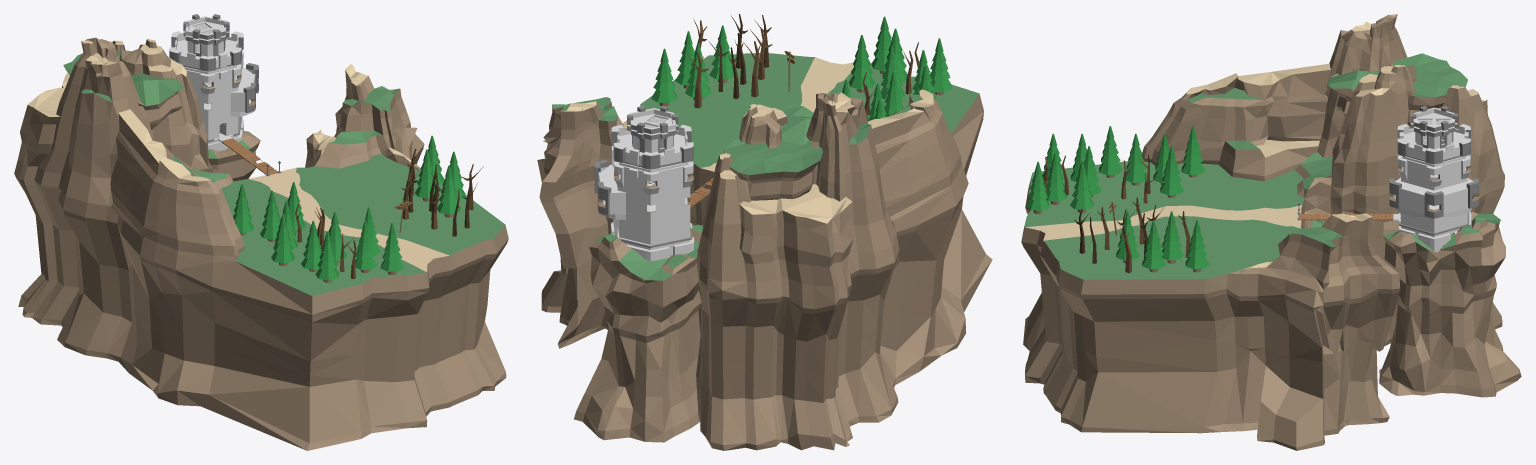
The model's file is Towerandterrain.fbx.
3 renders of one model, left to right at view 1: azimuth 30°, elevation 25°; view 2: azimuth 150°, elevation 25°; view 3: azimuth 270°, elevation 25°, orthographic. The views are drawn at different scales.
Visible parts, largest first — view 1: Terrain, tree2, Tower, tree, Bridge; view 2: Terrain, Tower, tree2, tree; view 3: Terrain, Tower, tree2, tree.
Boxes of the visible parts, x1,y1,x2,y2 form: Terrain: [14, 37, 508, 450]; tree2: [233, 135, 465, 282]; Tower: [169, 14, 258, 151]; tree: [295, 148, 483, 279]; Bridge: [218, 136, 281, 176]; Terrain: [537, 51, 992, 450]; Tower: [594, 105, 694, 261]; tree2: [651, 16, 952, 121]; tree: [686, 14, 919, 119]; Terrain: [1021, 14, 1521, 450]; Tower: [1389, 106, 1478, 252]; tree2: [1026, 126, 1209, 272]; tree: [1044, 154, 1190, 273].
Size of the model in its own units: 1337 by 1083 by 1650.
